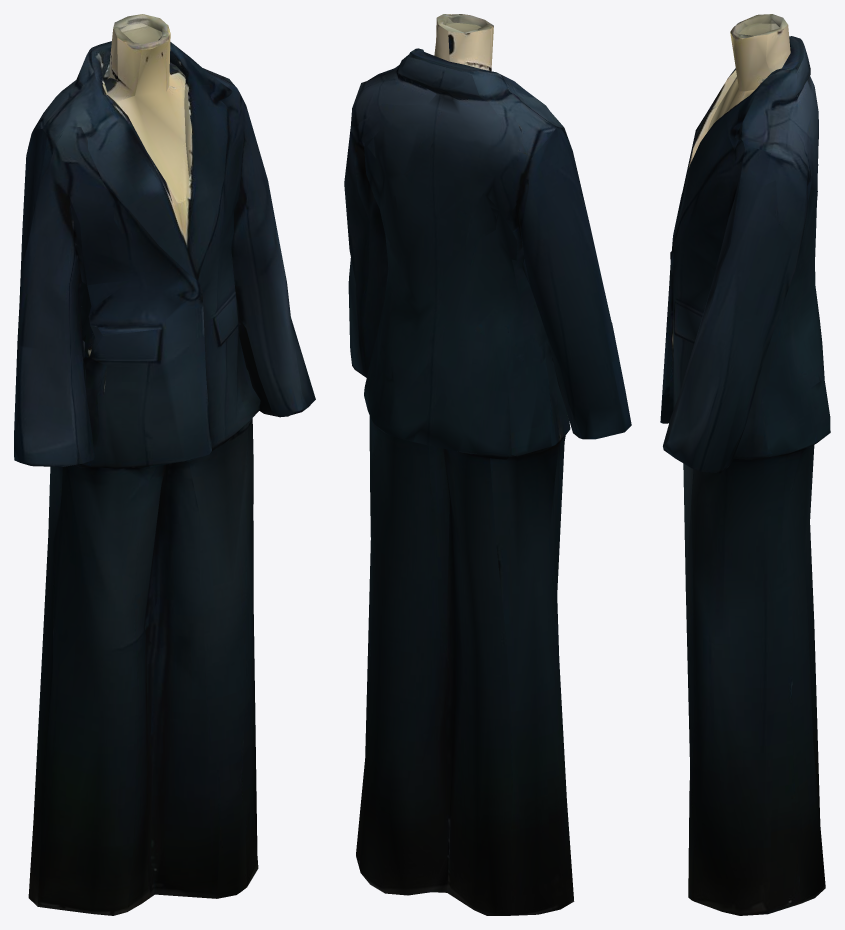
File: conjuntos-no-texture-final.glb
3 renders of one model, left to right at view 1: azimuth 30°, elevation 25°; view 2: azimuth 150°, elevation 25°; view 3: azimuth 270°, elevation 25°, orthographic.
Visible parts, largest first — view 1: textured_mesh; view 2: textured_mesh; view 3: textured_mesh.
Boxes of the visible parts, box(x1,y1,x2,y2) form: textured_mesh: box(14, 14, 315, 915); textured_mesh: box(344, 14, 631, 915); textured_mesh: box(660, 14, 830, 915).
Bounding box in the file's own units: 0.6946 × 1.99 × 0.3614.
1 material, 1 textured.
